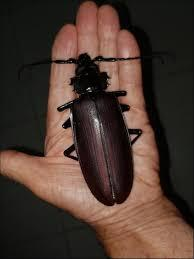Insects: (12, 24, 183, 209)
